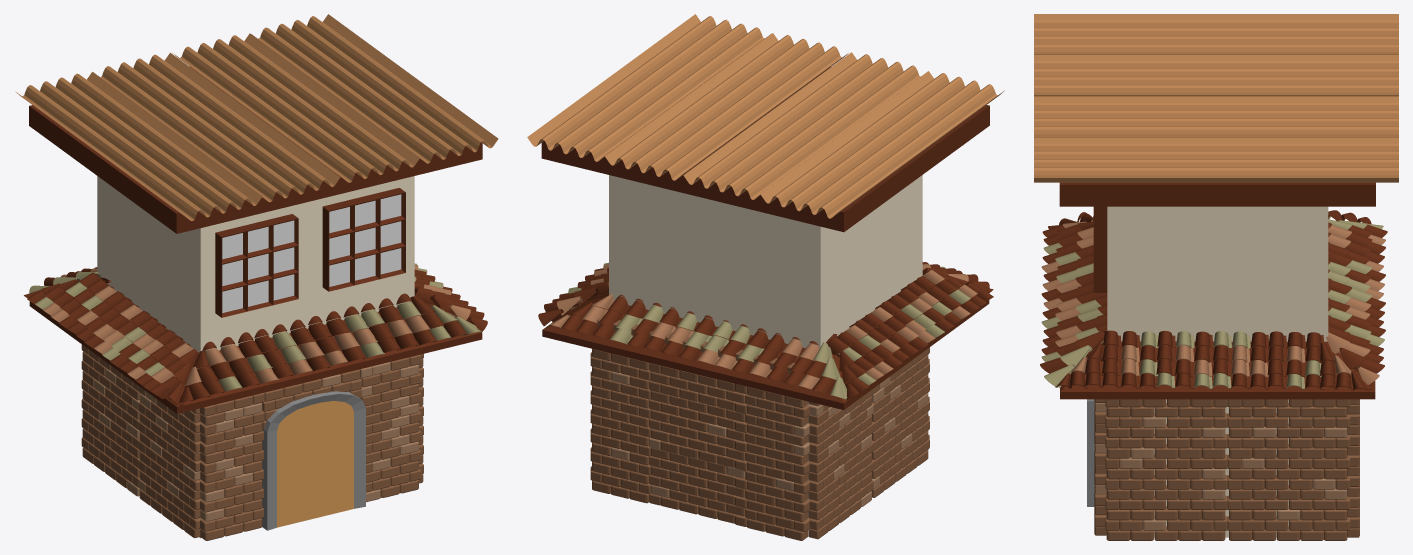
Rendered from oldhouse.fbx.
3 views of the same model, side by side, from view 1: azimuth 30°, elevation 25°; view 2: azimuth 150°, elevation 25°; view 3: azimuth 270°, elevation 25° (orthographic). The views are drawn at different scales.
Visible parts, largest first — view 1: house 1; view 2: house 1; view 3: house 1.
Part boxes in pixels (x1=…): house 1: x1=15, y1=14, x2=498, y2=540; house 1: x1=527, y1=14, x2=1004, y2=540; house 1: x1=1034, y1=14, x2=1398, y2=540.
Bounding box in the file's own units: 1874 × 1944 × 1659.
